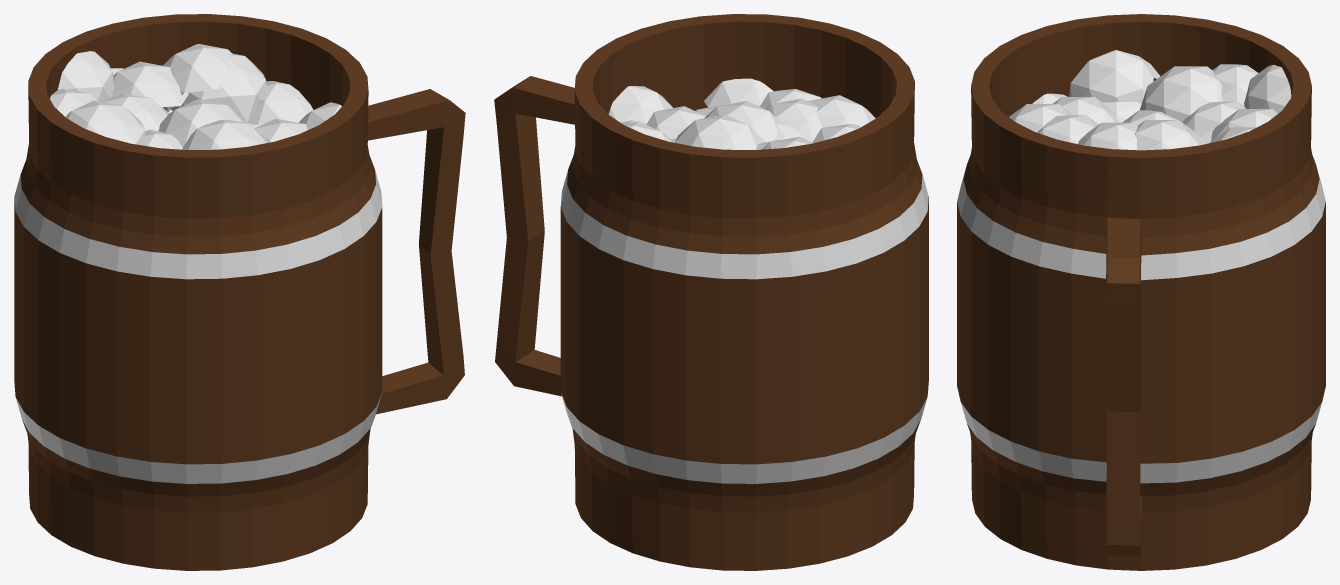
The model's file is beernug.fbx.
3 renders of one model, left to right at view 1: azimuth 30°, elevation 25°; view 2: azimuth 150°, elevation 25°; view 3: azimuth 270°, elevation 25°, orthographic.
Visible parts, largest first — view 1: beermug; view 2: beermug; view 3: beermug.
Part boxes in pixels (x1,y1,x2,y2): beermug: (14, 14, 465, 570); beermug: (494, 14, 928, 570); beermug: (957, 14, 1325, 570).
Size of the model in its own units: 257 by 251 by 199.
